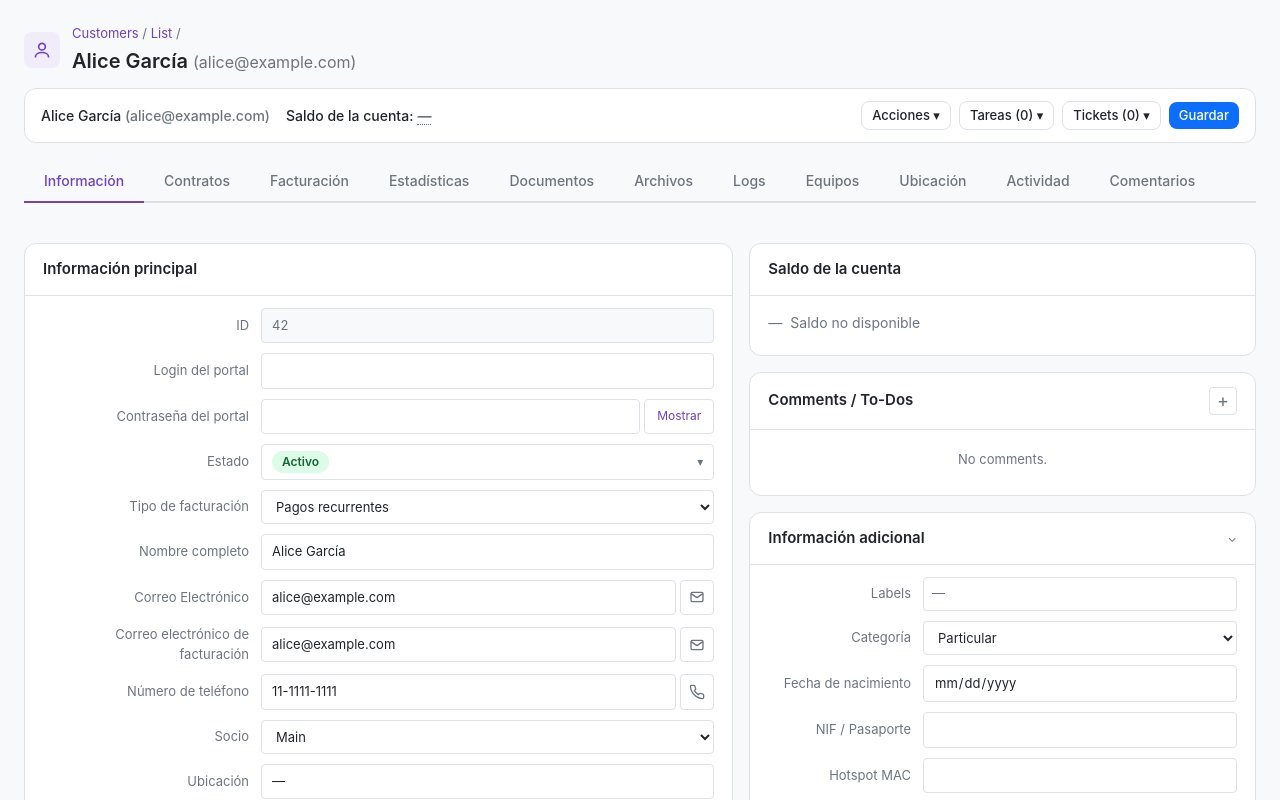
Test: CustomerDetailPage – Acciones dropdown portalizado (Deuda #5) › el dropdown se abre al clickear el botón Acciones
Expected: the button "Bloquear cliente" is not shown
What coordinates should you click on to do the following:
click the button "Acciones ▾"
I would click on:
 (906, 115)
Its box is [861,100,951,130].
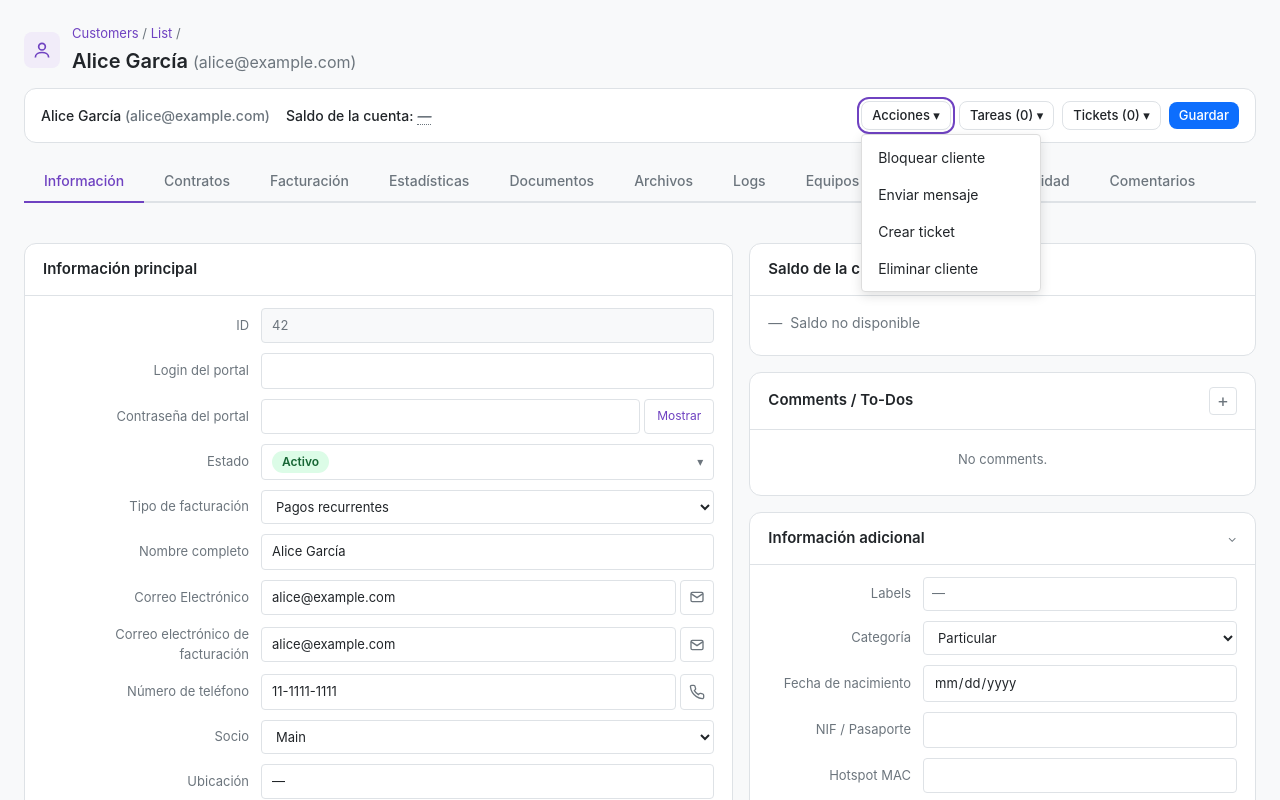
Expected: the button "Bloquear cliente" is shown, [862,139,1040,176]
